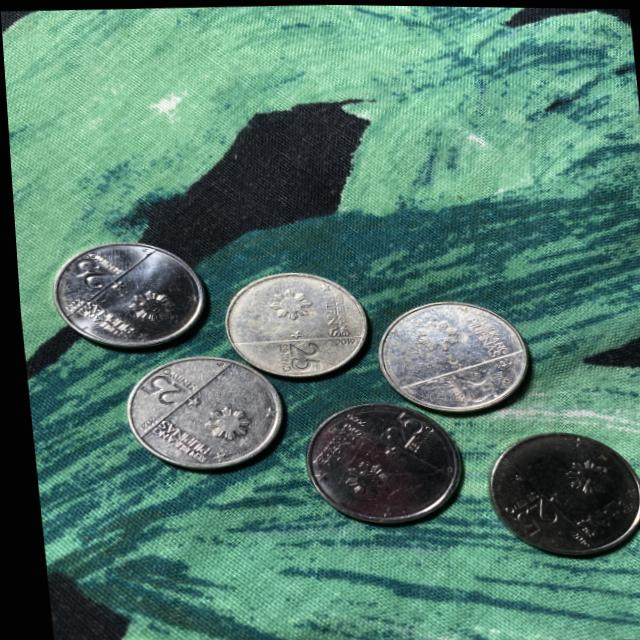25Cent_New_Front: (132, 373, 186, 406), (445, 364, 493, 400), (505, 496, 549, 533), (375, 409, 417, 447), (64, 256, 111, 288), (279, 340, 319, 370)
